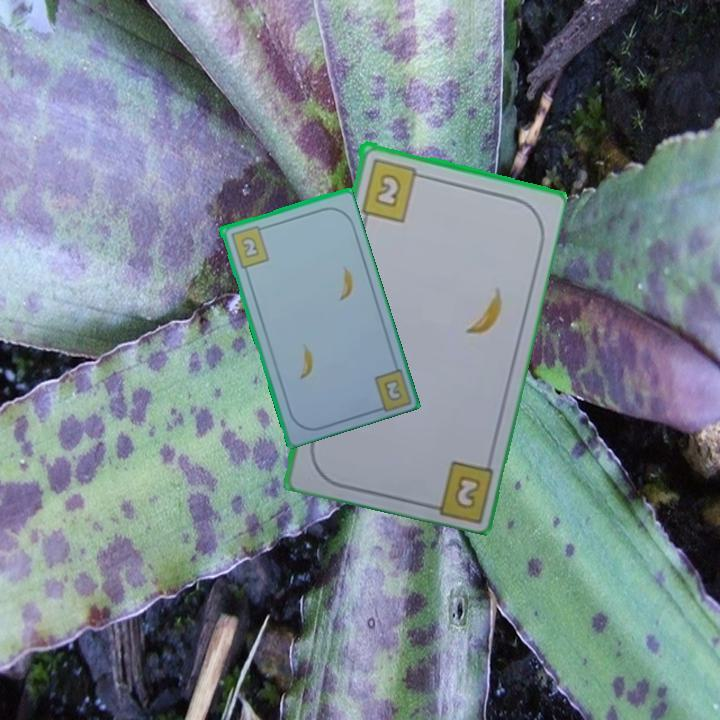2b: (357, 154, 428, 224), (227, 222, 272, 271), (450, 471, 484, 512), (380, 375, 405, 404)
